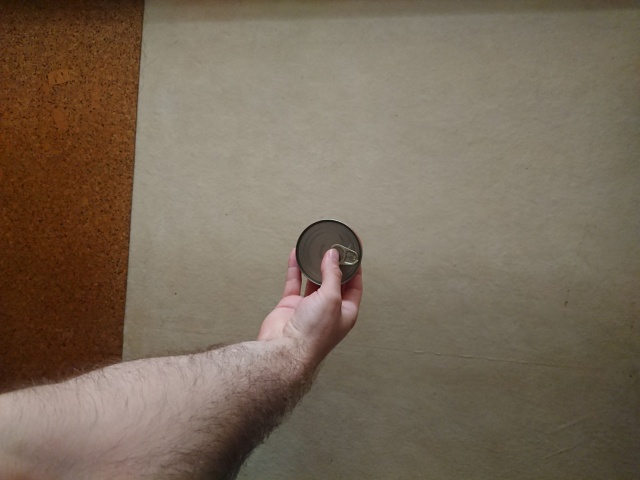Gavrilovic Pork Liver Pate 100g: (293, 217, 365, 289)
